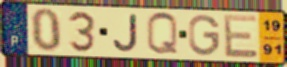0: (27, 7, 64, 53)
3: (66, 9, 97, 54)
E: (222, 13, 260, 59)
G: (187, 13, 222, 57)
J: (111, 12, 139, 54)
Q: (145, 11, 180, 57)
